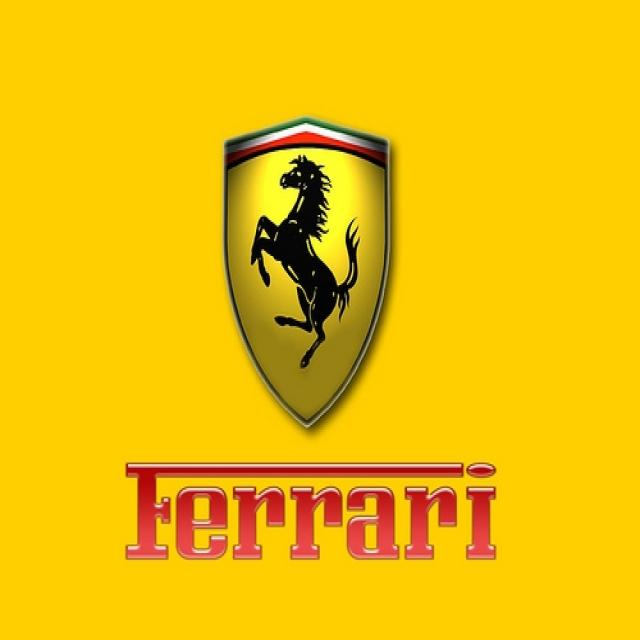ferrari: (224, 119, 391, 428)
